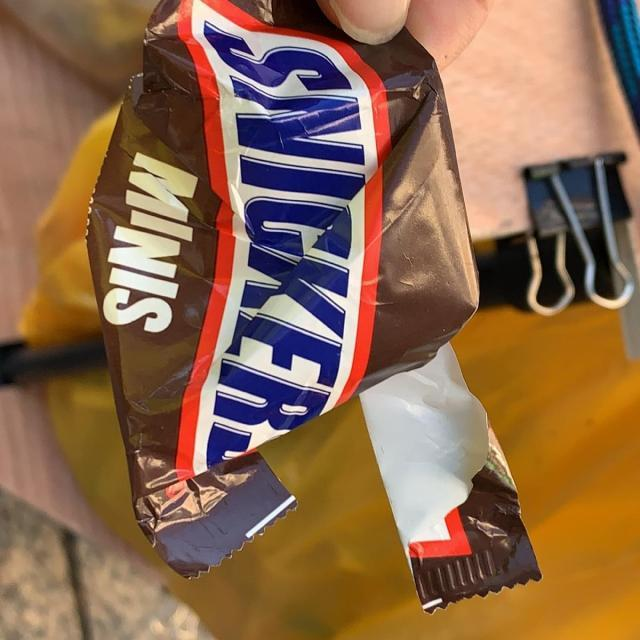Plastic: (80, 0, 553, 618)
